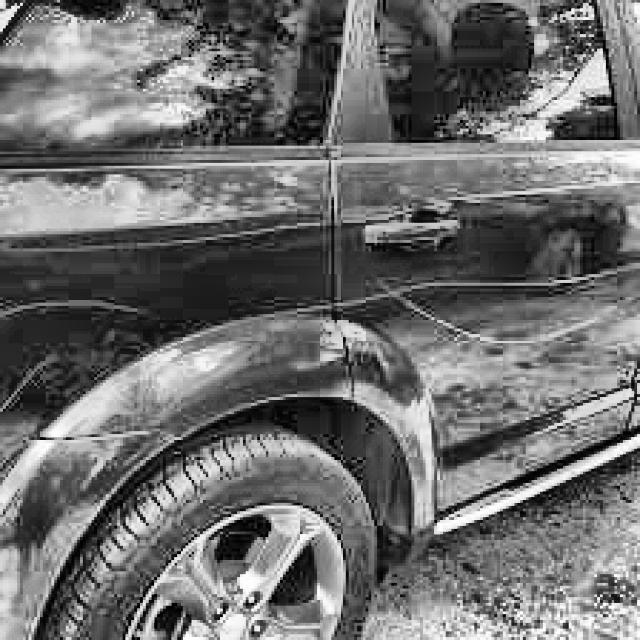door_scratch: (397, 285, 623, 356)
